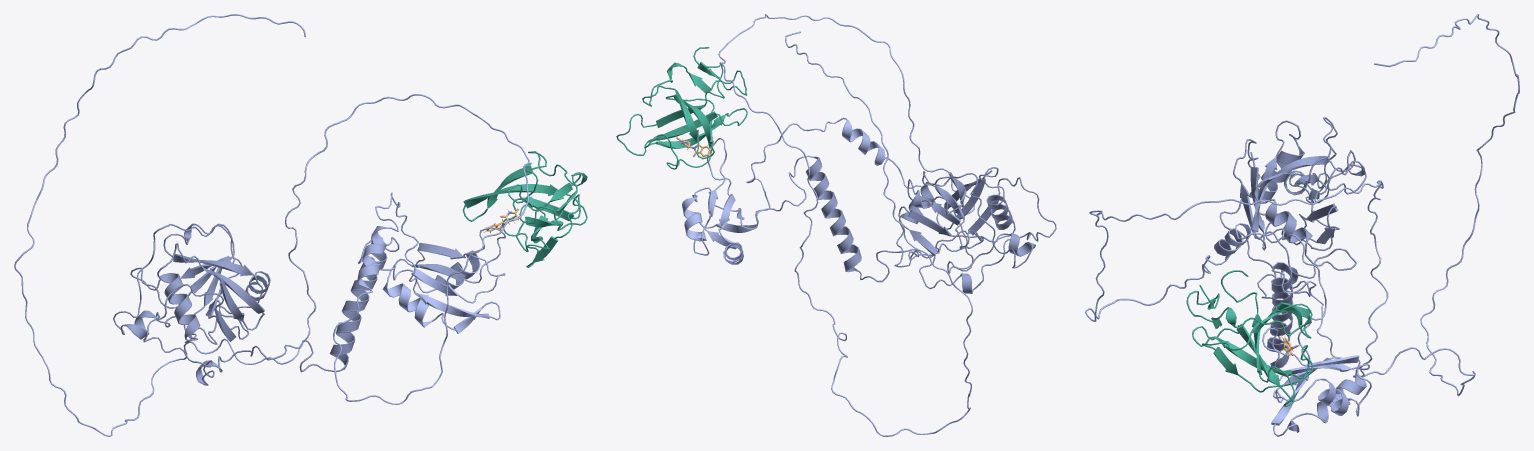
Rendered from negctrl_no_ppil4_arm.glb.
3 views of the same model, side by side, from view 1: azimuth 30°, elevation 25°; view 2: azimuth 150°, elevation 25°; view 3: azimuth 270°, elevation 25° (orthographic). The views are drawn at different scales.
Visible parts, largest first — view 1: node-geom52, node-geom53; view 2: node-geom52, node-geom53; view 3: node-geom52, node-geom53.
Boxes of the visible parts, bbox=[...] form: node-geom52: bbox=[113, 151, 587, 385]; node-geom53: bbox=[14, 14, 529, 436]; node-geom52: bbox=[616, 47, 1056, 293]; node-geom53: bbox=[682, 14, 974, 436]; node-geom52: bbox=[1186, 117, 1366, 406]; node-geom53: bbox=[1085, 14, 1519, 436].
Size of the model in its own units: 136 by 105 by 102.
